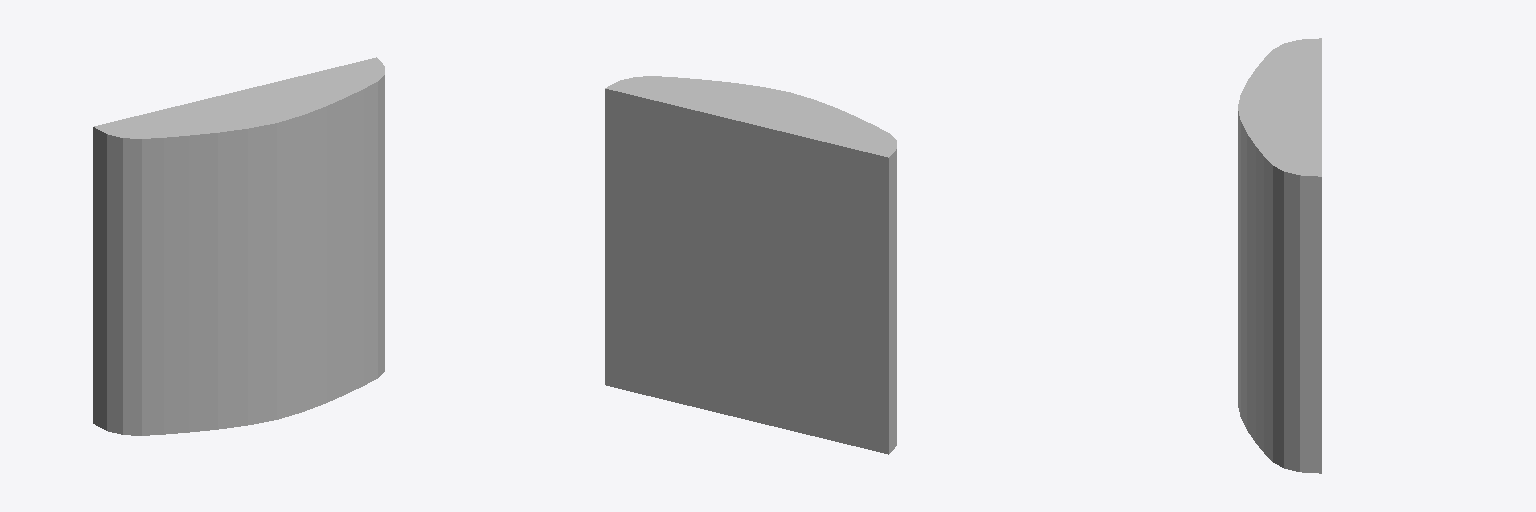
File: shield.obj
3 views of the same model, side by side, from view 1: azimuth 30°, elevation 25°; view 2: azimuth 150°, elevation 25°; view 3: azimuth 270°, elevation 25° (orthographic).
Parts seen in each view (by area): view 1: Cylinder; view 2: Cylinder; view 3: Cylinder.
Part boxes in pixels (x1,y1,x2,y2): Cylinder: (93, 57, 384, 435); Cylinder: (605, 76, 896, 454); Cylinder: (1238, 38, 1321, 473).
Size of the model in its own units: 2 by 2 by 0.5172.